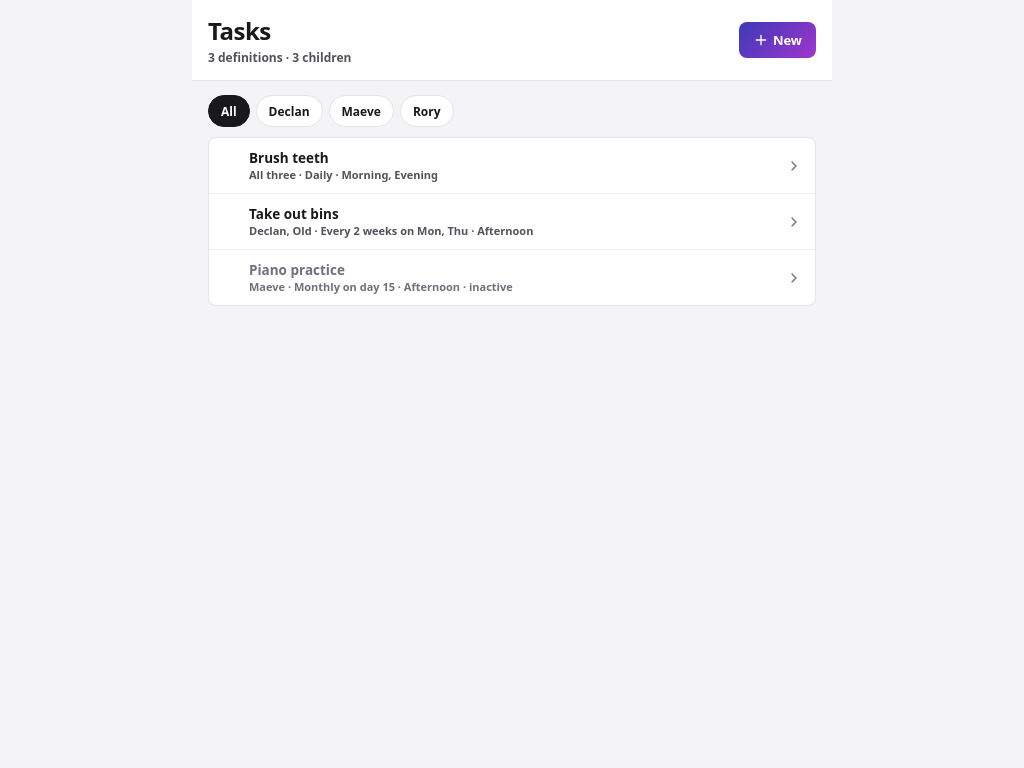
it: DefinitionsTab › editing only the title omits assignee_child_ids and keeps an inactive assignee
expect the text "Brush teeth" is shown: met, box top-left (249, 149), bottom-right (329, 167)
Click the button with test id "definition-11" at coordinates (512, 222), box top-left (209, 194), bottom-right (815, 249)
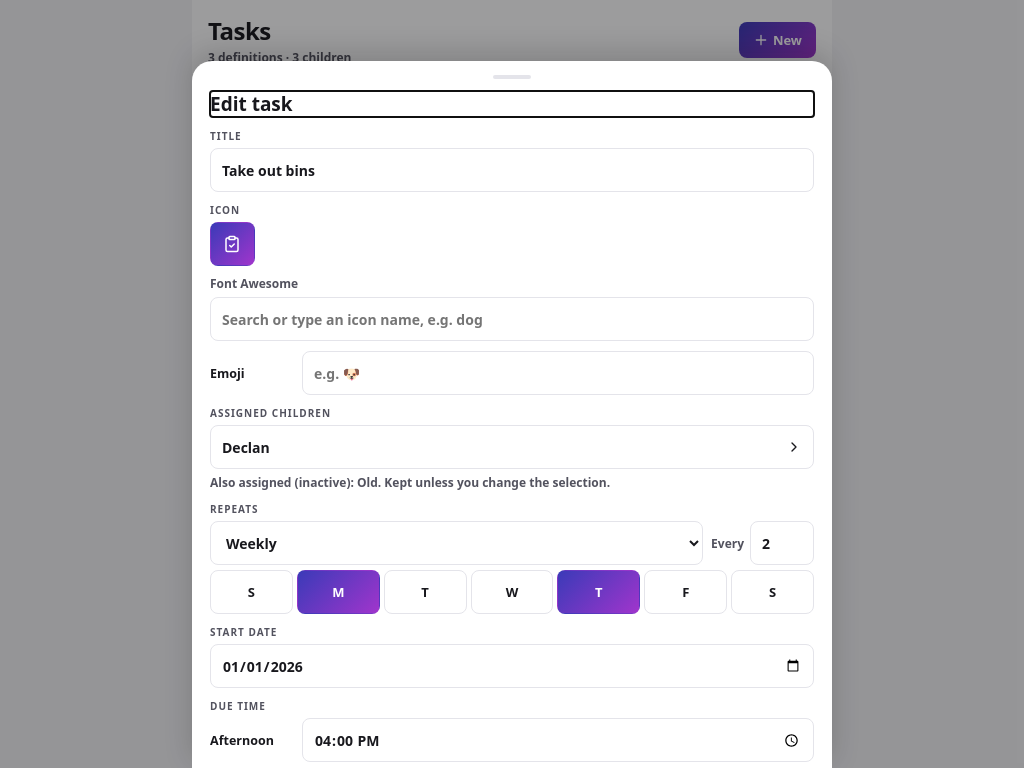
expect the text "Also assigned (inactive): Old." is shown: met, box top-left (210, 474), bottom-right (610, 492)
Replace the text in the field labelled "Title" with "Bins out" at coordinates (512, 170), box top-left (210, 148), bottom-right (814, 192)
(page scrolled)
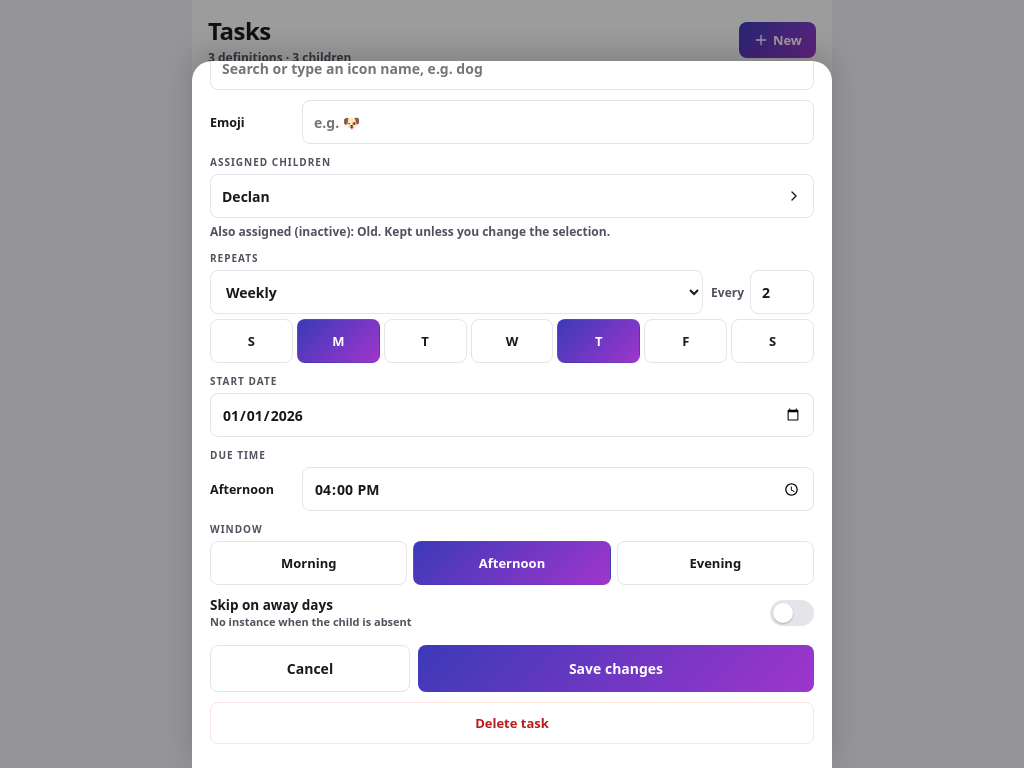
Click the button "Save changes" at coordinates (616, 669), box top-left (418, 646), bottom-right (814, 692)
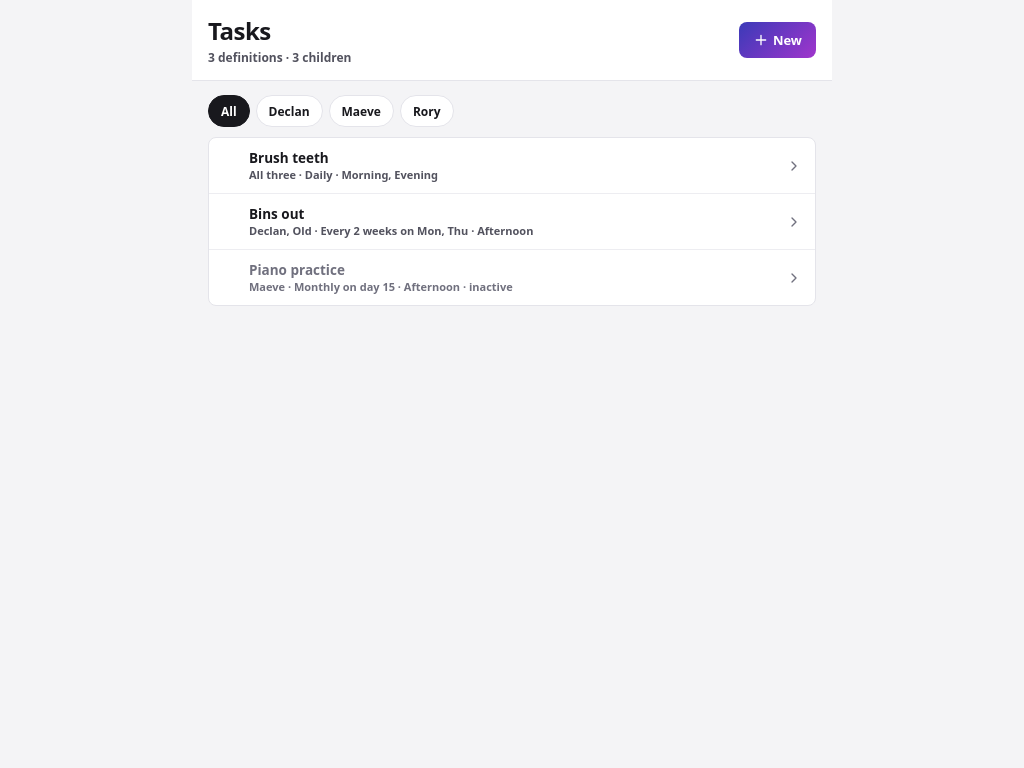
expect the text "Bins out" is shown: met, box top-left (249, 205), bottom-right (304, 223)
expect the text with class "defs-row-meta" reads "Declan, Old · Every 2 weeks on Mon, Thu · Afternoon": met, box top-left (249, 223), bottom-right (533, 238)
